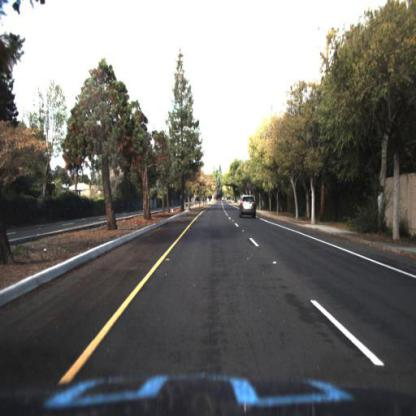car: (240, 195, 258, 222)
